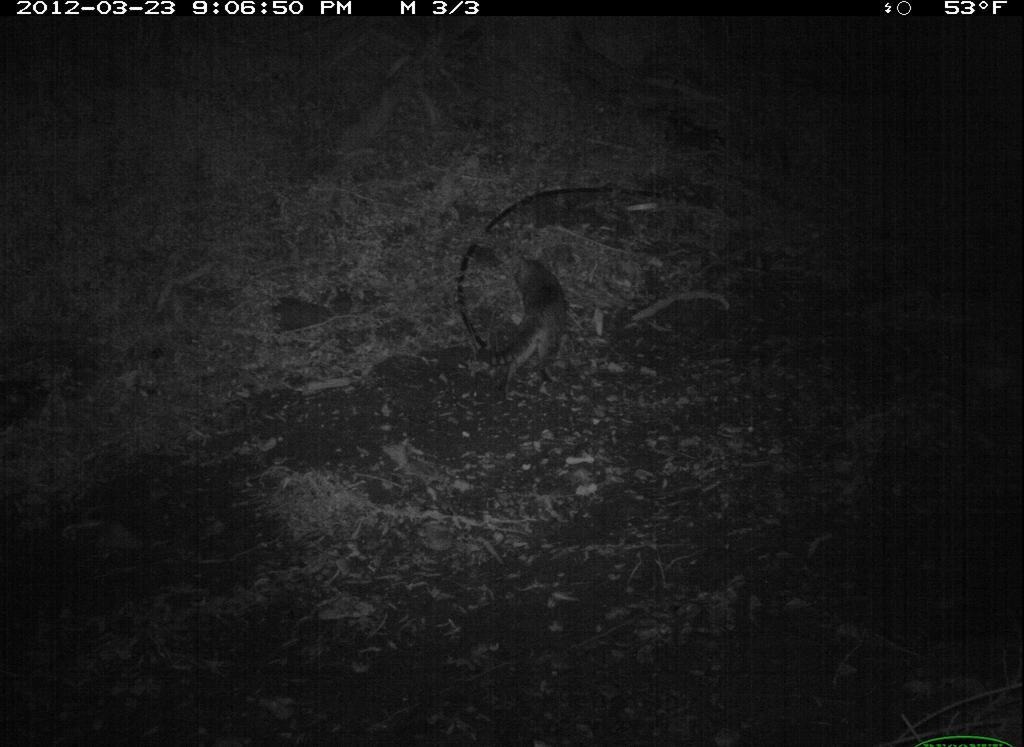cat: (475, 235, 591, 408)
